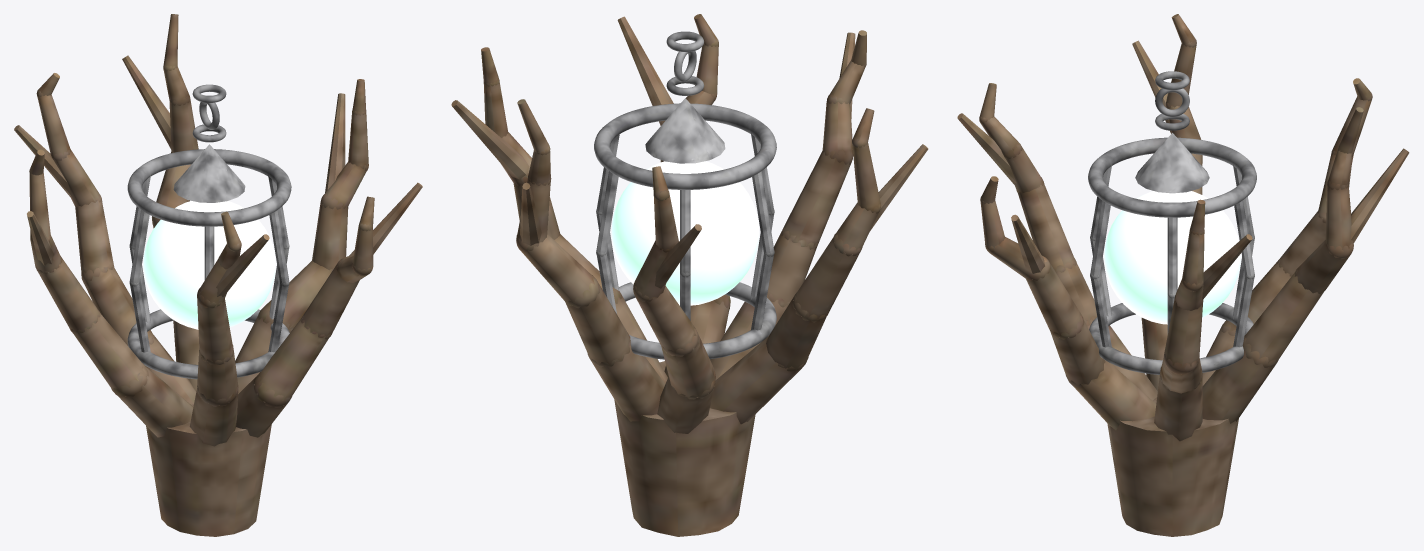
The model's file is marsh.glb.
The picture shows the model from 3 angles, left to right: view 1: azimuth 30°, elevation 25°; view 2: azimuth 150°, elevation 25°; view 3: azimuth 270°, elevation 25°; orthographic projection. The views are drawn at different scales.
Parts seen in each view (by area): view 1: wood_old, metal_iron, glow_marsh; view 2: wood_old, metal_iron, glow_marsh; view 3: wood_old, metal_iron, glow_marsh.
Boxes of the visible parts, x1,y1,x2,y2 form: wood_old: (14,14,422,536); metal_iron: (127,84,291,379); glow_marsh: (143,201,275,329); wood_old: (451,14,928,536); metal_iron: (594,31,776,359); glow_marsh: (611,161,759,305); wood_old: (957,14,1409,536); metal_iron: (1088,71,1256,374); glow_marsh: (1104,191,1240,324).
Size of the model in its own units: 0.3564 by 0.39 by 0.3634.
Materials: 3 (2 with a texture image).
